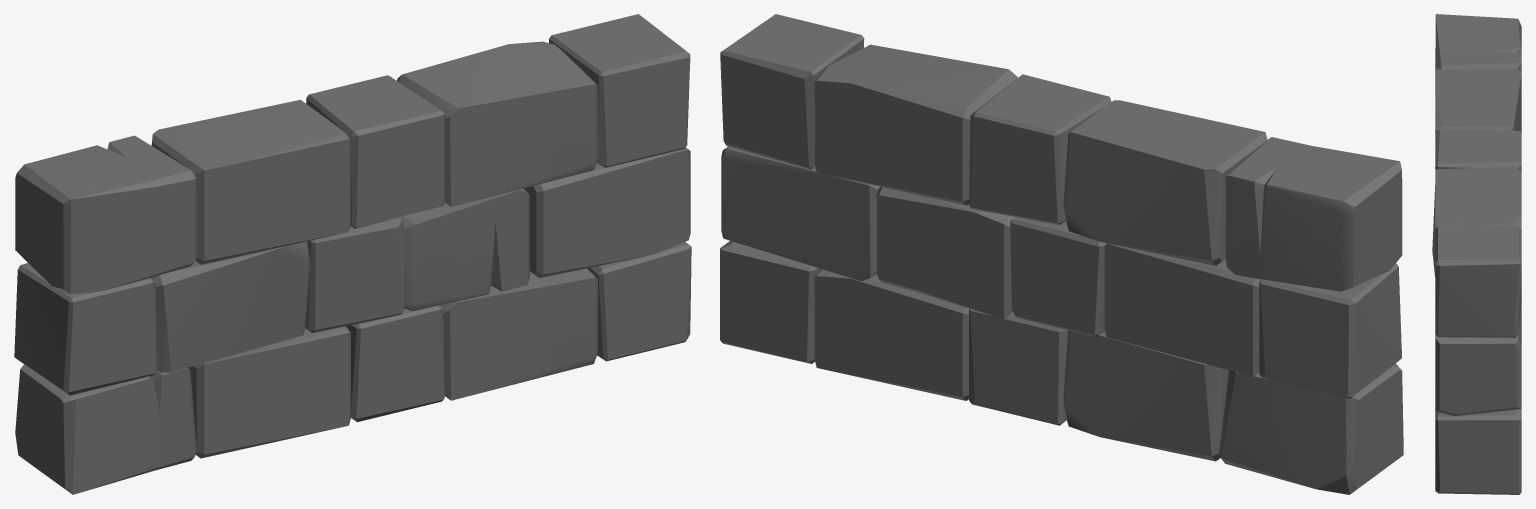
Rendered from Assembled_Wall_1.fbx.
The picture shows the model from 3 angles, left to right: view 1: azimuth 30°, elevation 25°; view 2: azimuth 150°, elevation 25°; view 3: azimuth 270°, elevation 25°; orthographic projection. The views are drawn at different scales.
Parts seen in each view (by area): view 1: Assembled_Wall_1; view 2: Assembled_Wall_1; view 3: Assembled_Wall_1.
Boxes of the visible parts, left/top/right/bottom form: Assembled_Wall_1: left=14, top=14, right=691, bottom=494; Assembled_Wall_1: left=720, top=14, right=1403, bottom=494; Assembled_Wall_1: left=1432, top=14, right=1521, bottom=494.
Size of the model in its own units: 81.27 by 36.42 by 12.43.
